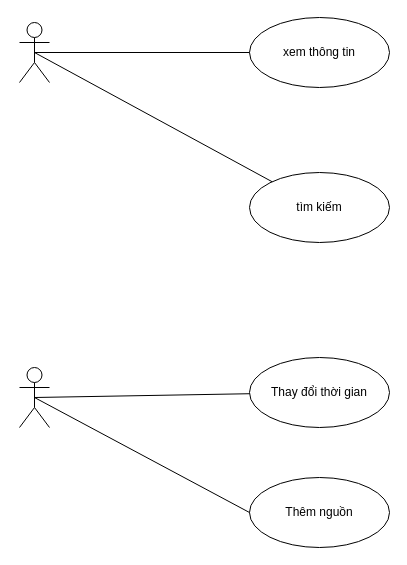
Image size: 407x565. Some labels were removed from this diagram. The shapes that lost their labels are listed below. From the top down, each one's centre as x and y in pixels, then its label:
At point (34, 52): "User".
At point (34, 397): "Admin".
